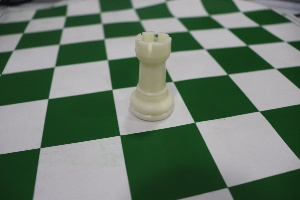white_rook: (120, 16, 187, 130)
